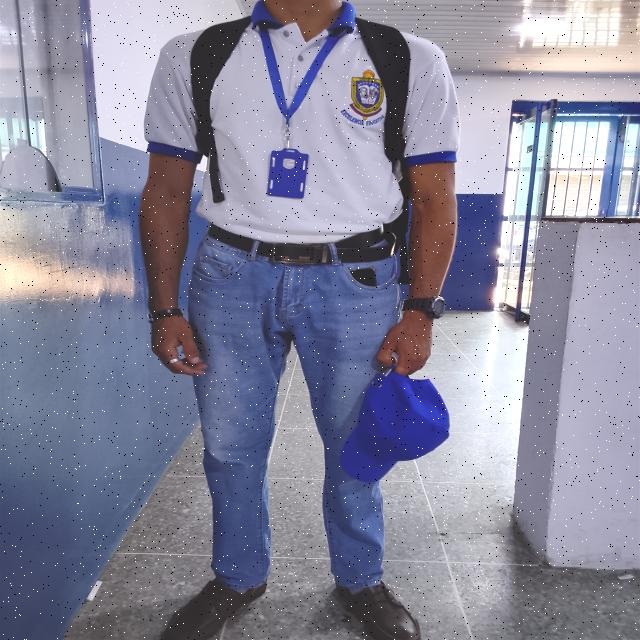carnet: (267, 150, 309, 199)
uniforme_superior: (143, 0, 461, 244)
